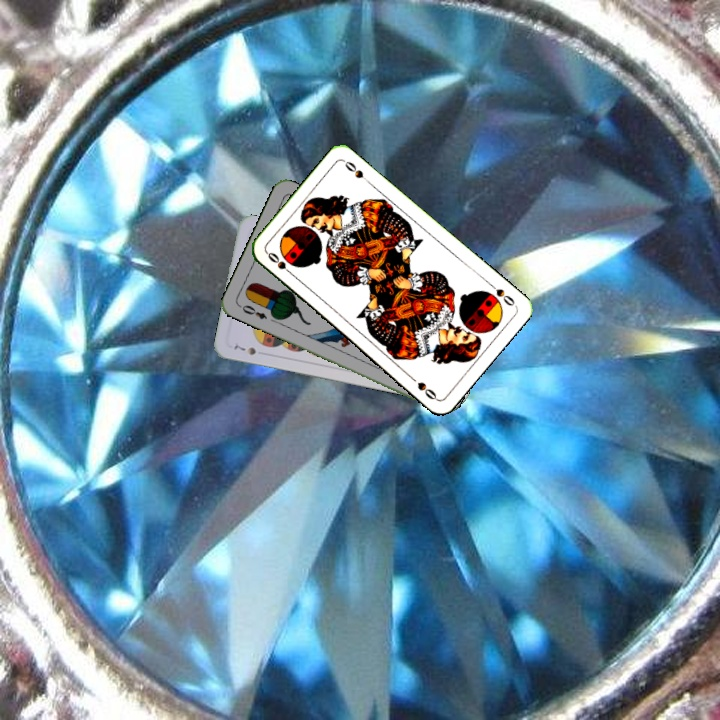EO: (235, 301, 270, 322)
S7: (230, 341, 259, 358)
SO: (263, 248, 297, 279), (484, 278, 517, 309)
